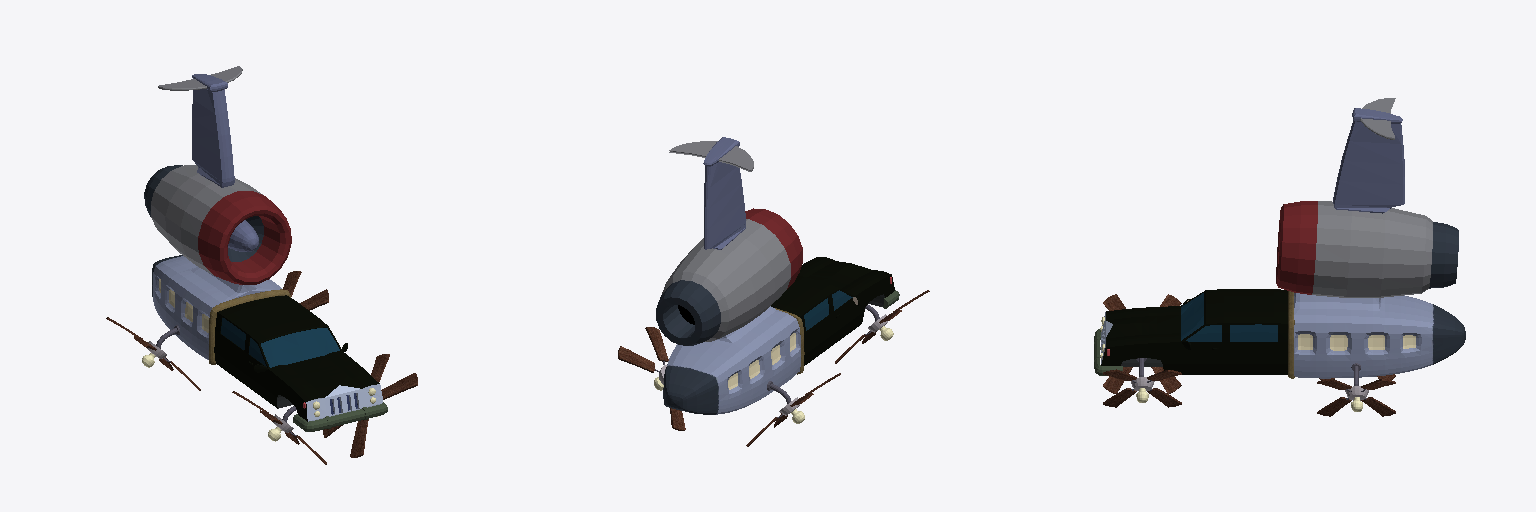
3 views of the same model, side by side, from view 1: azimuth 30°, elevation 25°; view 2: azimuth 150°, elevation 25°; view 3: azimuth 270°, elevation 25° (orthographic).
Visible parts, largest first — view 1: model_1, model_0; view 2: model_1, model_0; view 3: model_1, model_0.
Boxes of the visible parts, x1,y1,x2,y2 form: model_1: [106, 66, 417, 464]; model_0: [142, 295, 387, 441]; model_1: [618, 137, 929, 446]; model_0: [654, 257, 899, 423]; model_1: [1103, 98, 1465, 416]; model_0: [1094, 289, 1368, 411].
Bounding box in the file's own units: 54.06 × 77.12 × 89.71.
Materials: 2 (2 with a texture image).